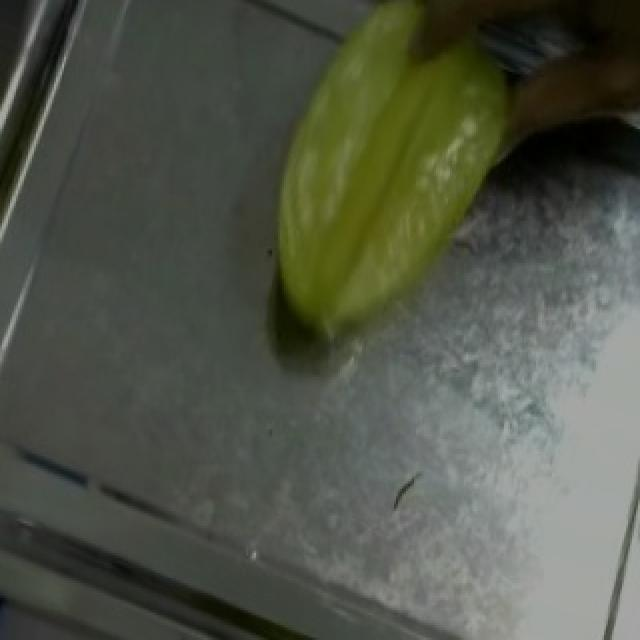fruit: (218, 0, 566, 375)
